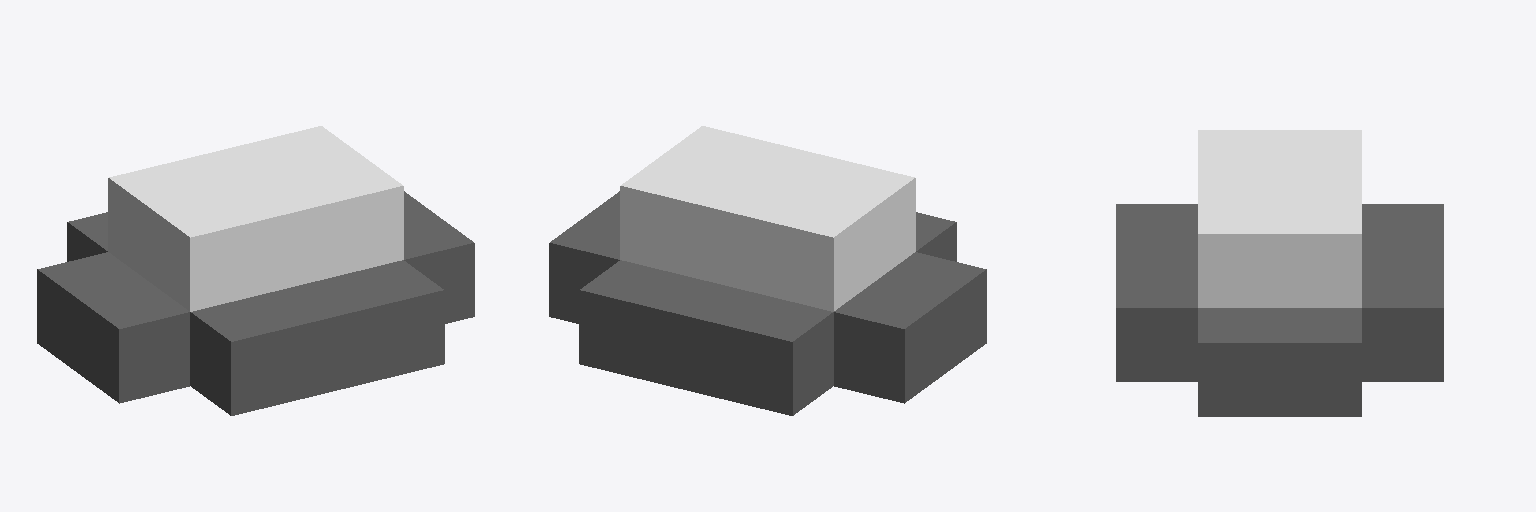
3 views of the same model, side by side, from view 1: azimuth 30°, elevation 25°; view 2: azimuth 150°, elevation 25°; view 3: azimuth 270°, elevation 25° (orthographic).
Parts seen in each view (by area): view 1: object 1; view 2: object 1; view 3: object 1.
Boxes of the visible parts, x1,y1,x2,y2 form: object 1: [37, 126, 474, 415]; object 1: [549, 126, 986, 415]; object 1: [1116, 130, 1443, 416].
Size of the model in its own units: 0.5 by 0.2 by 0.4.
Materials: 1 (1 with a texture image).